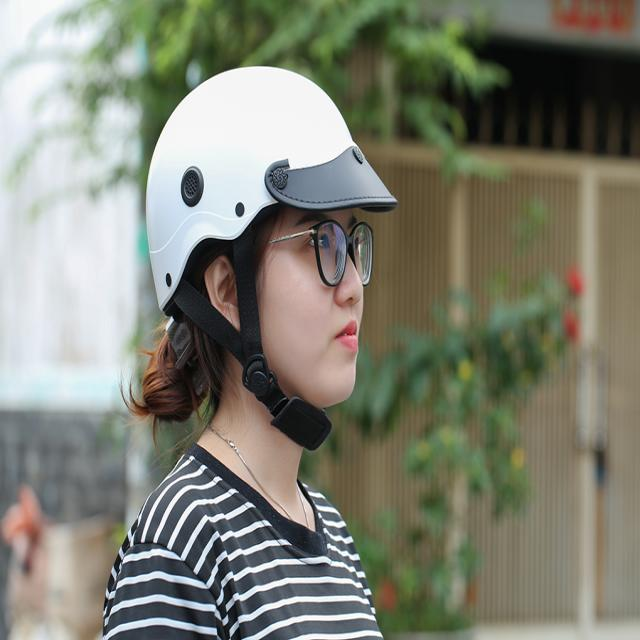1-2-helmet: (140, 60, 405, 321)
